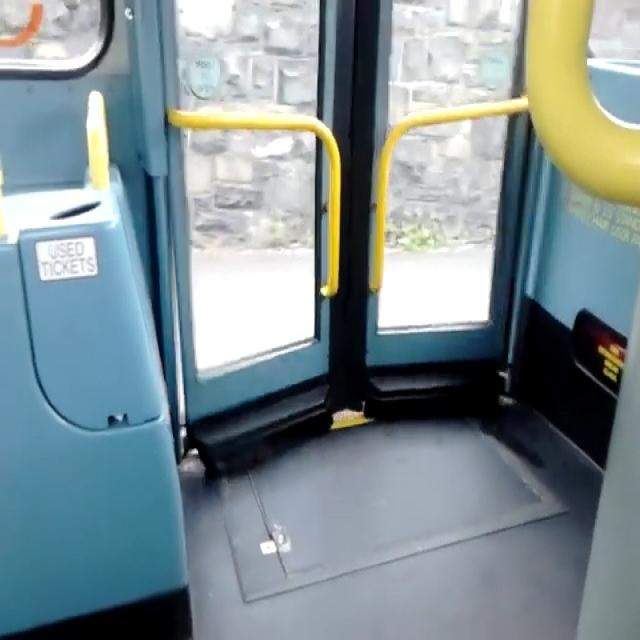bus-door: (141, 0, 529, 443)
